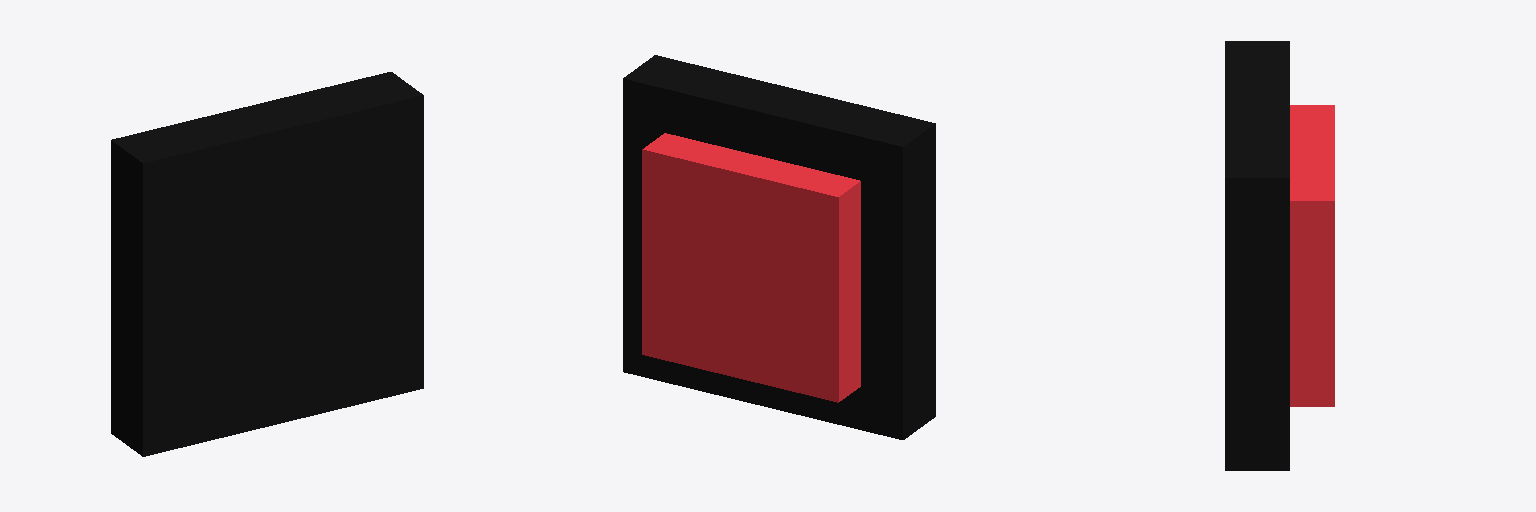
3 renders of one model, left to right at view 1: azimuth 30°, elevation 25°; view 2: azimuth 150°, elevation 25°; view 3: azimuth 270°, elevation 25°, orthographic.
Parts seen in each view (by area): view 1: Cube.001; view 2: Cube.001; view 3: Cube.001.
Boxes of the visible parts, x1=… form: Cube.001: x1=111, y1=72, x2=423, y2=456; Cube.001: x1=623, y1=55, x2=935, y2=439; Cube.001: x1=1225, y1=41, x2=1334, y2=470.
Bounding box in the file's own units: 2 × 2 × 0.6787.
Materials: 1 (1 with a texture image).